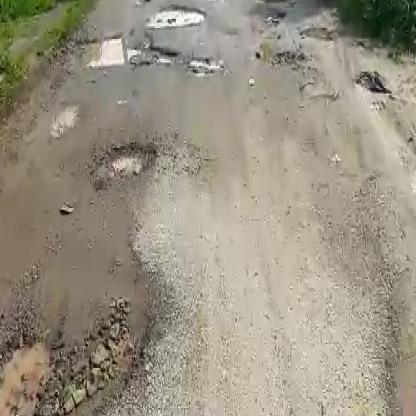pothole: (0, 300, 167, 416), (85, 136, 185, 185), (78, 31, 170, 68), (147, 4, 206, 30), (187, 56, 227, 78)
